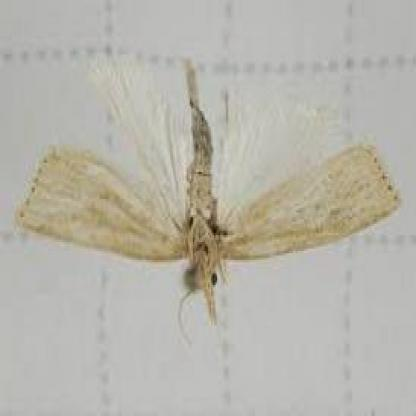stem-borer: (17, 72, 402, 321)
